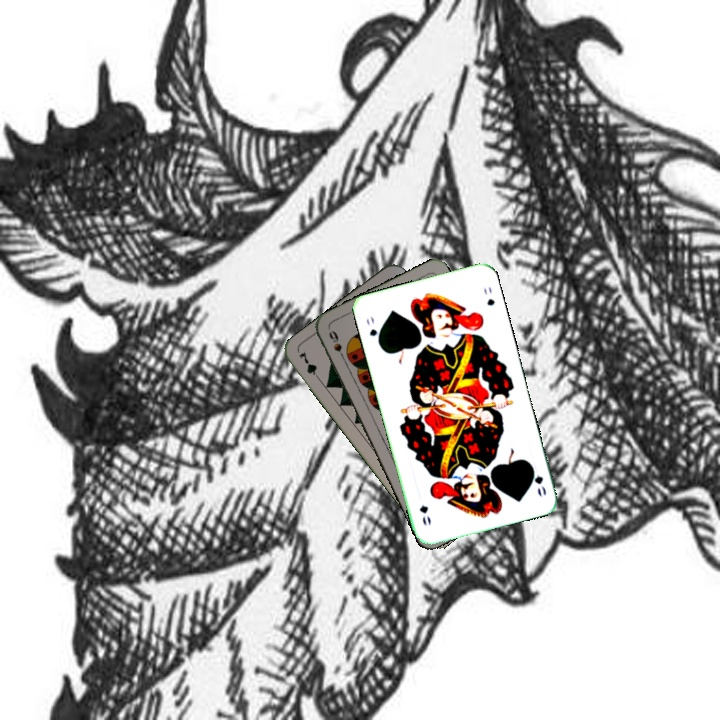G7: (294, 348, 324, 385)
GO: (526, 460, 549, 499), (362, 312, 383, 348)
S9: (325, 326, 348, 364)
